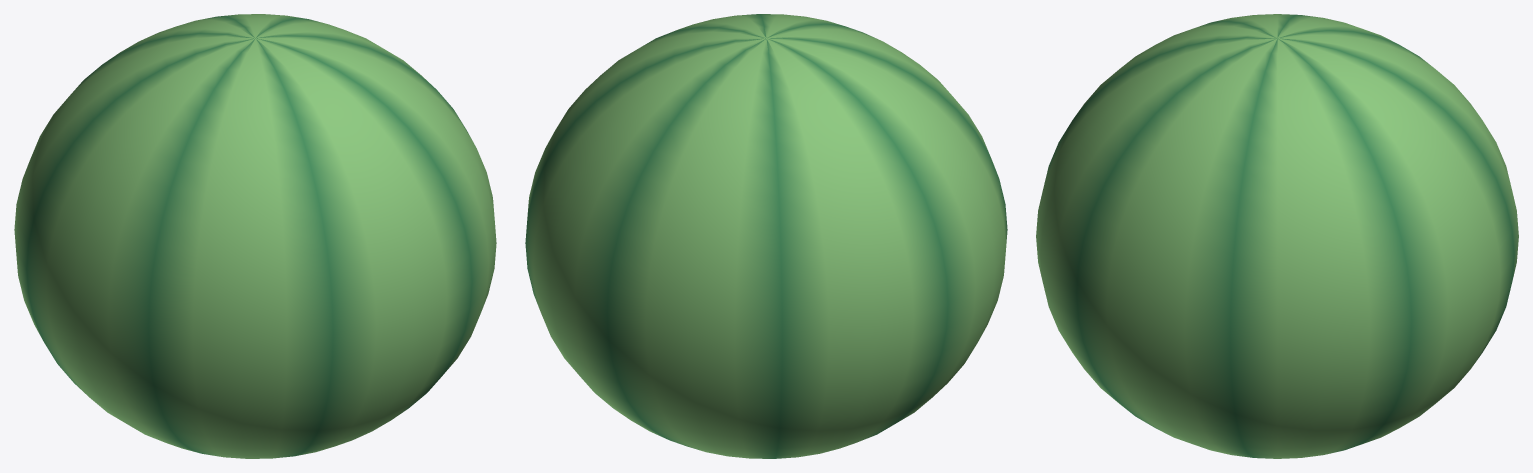
Rendered from watermelon.glb.
3 renders of one model, left to right at view 1: azimuth 30°, elevation 25°; view 2: azimuth 150°, elevation 25°; view 3: azimuth 270°, elevation 25°, orthographic.
Size of the model in its own units: 2.1 by 1.9 by 2.1.
